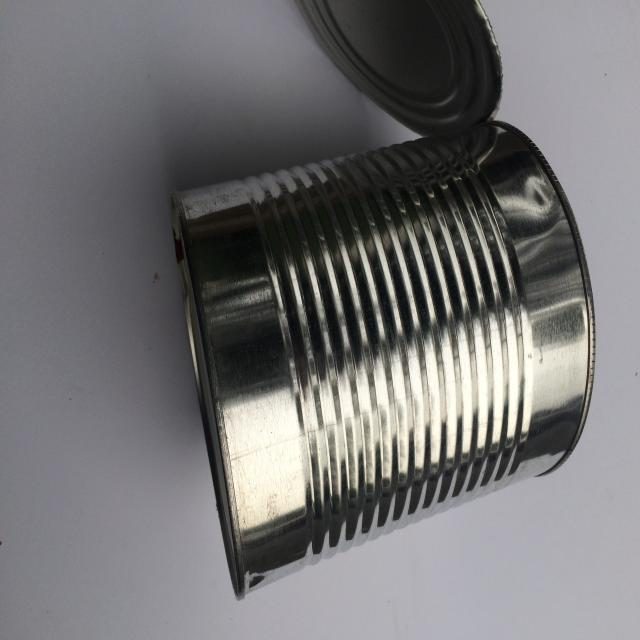metal: (126, 0, 606, 612)
